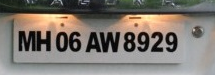0: (56, 31, 69, 54)
2: (150, 31, 163, 53)
6: (68, 30, 84, 53)
8: (122, 31, 136, 52)
9: (136, 30, 151, 53), (164, 31, 179, 53)
A: (85, 30, 102, 53)
H: (35, 29, 54, 53)
M: (17, 29, 36, 52)
W: (98, 31, 121, 53)
